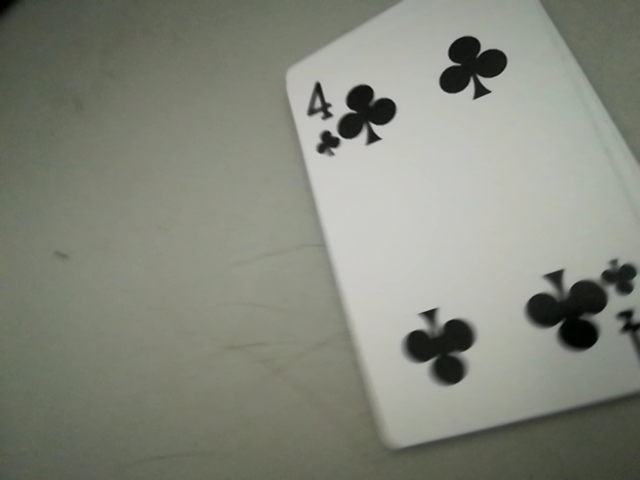mh 4: (297, 71, 367, 165)
